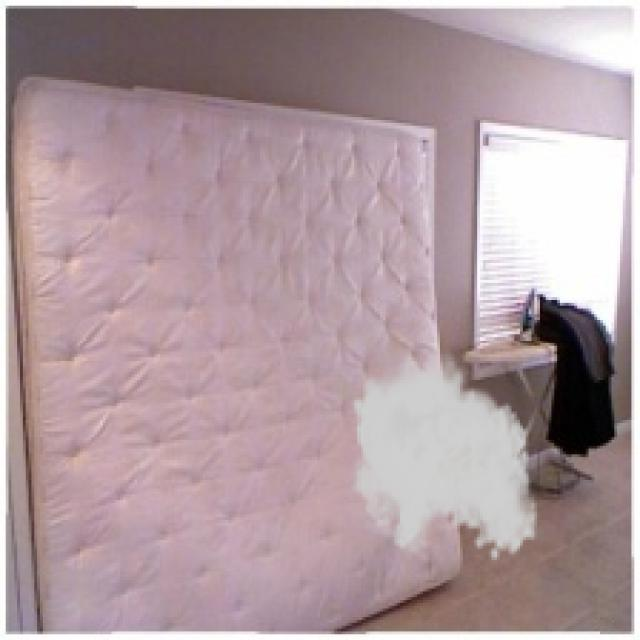smoke: (340, 346, 540, 563)
